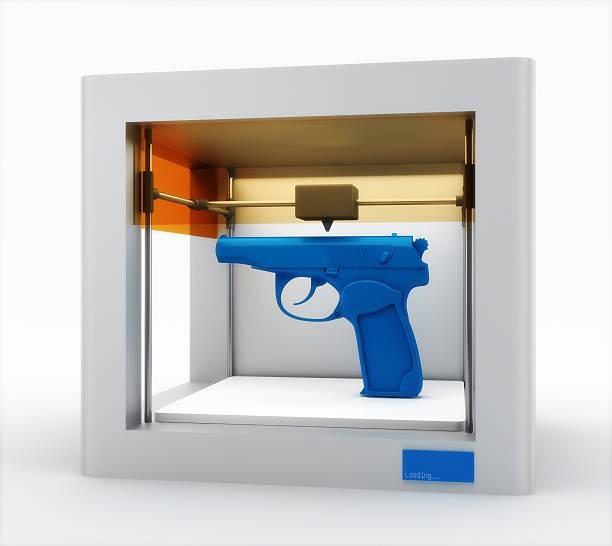weapon: (211, 228, 434, 405)
